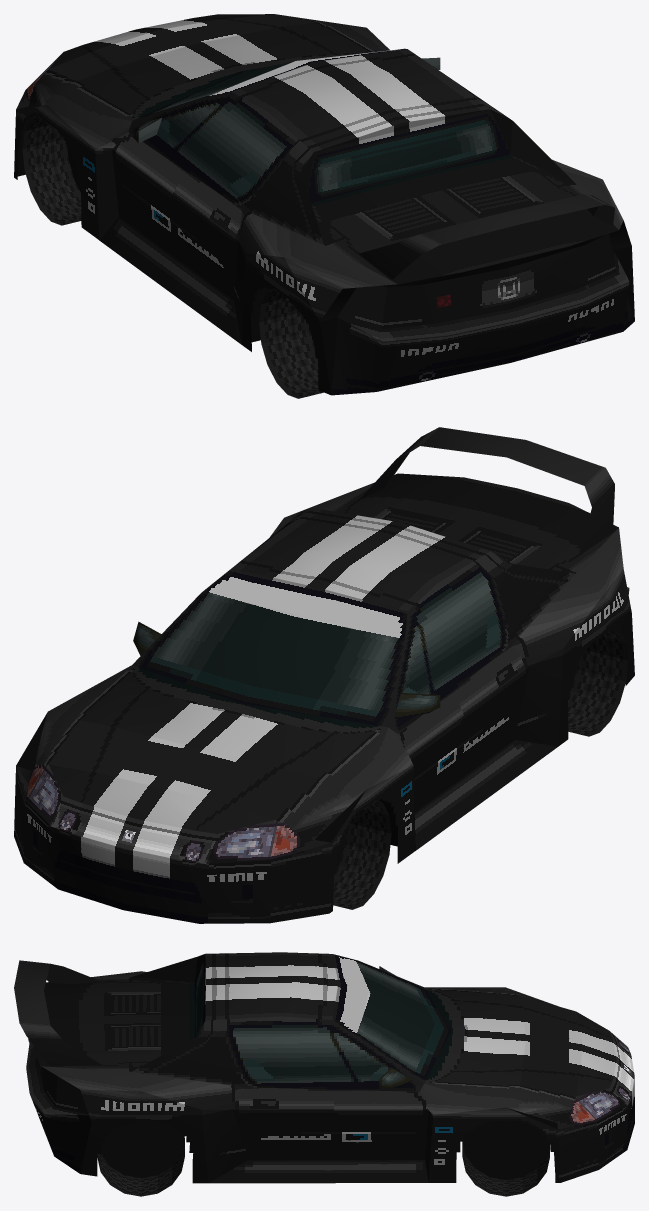
Rendered from GT_SIMULATION__H_ERR.glb.
3 views of the same model, one above another, from view 1: azimuth 30°, elevation 25°; view 2: azimuth 150°, elevation 25°; view 3: azimuth 270°, elevation 25° (orthographic). The views are drawn at different scales.
Visible parts, largest first — view 1: Native body LOD0, Native wheel 2, Native wheel 0; view 2: Native body LOD0, Native wheel 2, Native wheel 0; view 3: Native body LOD0, Native wheel 1, Native wheel 3.
Boxes of the visible parts, left/top/right/bottom form: Native body LOD0: left=14, top=14, right=634, bottom=395; Native wheel 2: left=259, top=289, right=323, bottom=398; Native wheel 0: left=22, top=115, right=81, bottom=225; Native body LOD0: left=14, top=427, right=634, bottom=923; Native wheel 2: left=568, top=630, right=628, bottom=736; Native wheel 0: left=333, top=800, right=391, bottom=909; Native body LOD0: left=14, top=952, right=634, bottom=1183; Native wheel 1: left=462, top=1121, right=549, bottom=1196; Native wheel 3: left=97, top=1121, right=184, bottom=1196.
Bounding box in the file's own units: 1.85 × 1.14 × 4.04.
14 materials, 13 textured.
